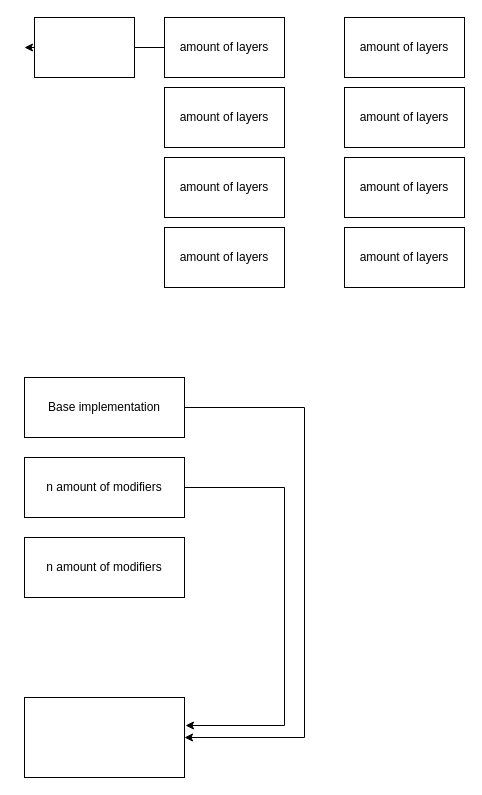
Image size: 482x795. Some labels were removed from this diagram. The shapes that lost their labels are listed below. From the top down, each one's centre as x and y in pixels, then its label:
At point 84,47: "Core layer".
At point 104,737: "Augmenter".
